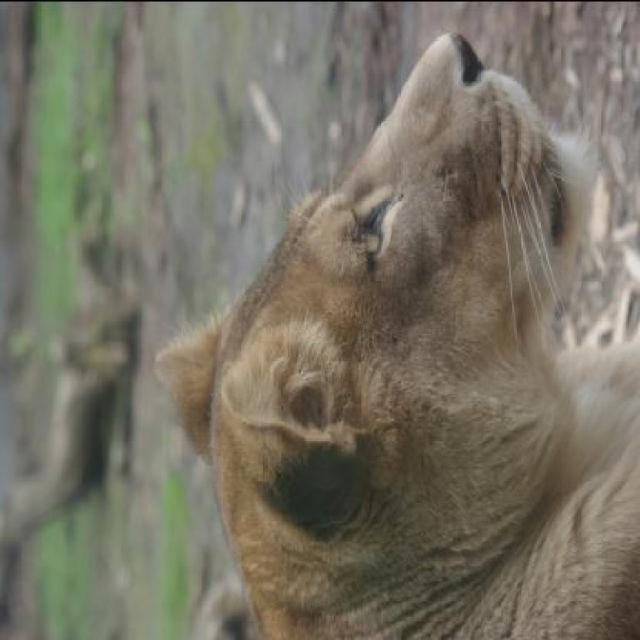Lion: (144, 5, 638, 626)
